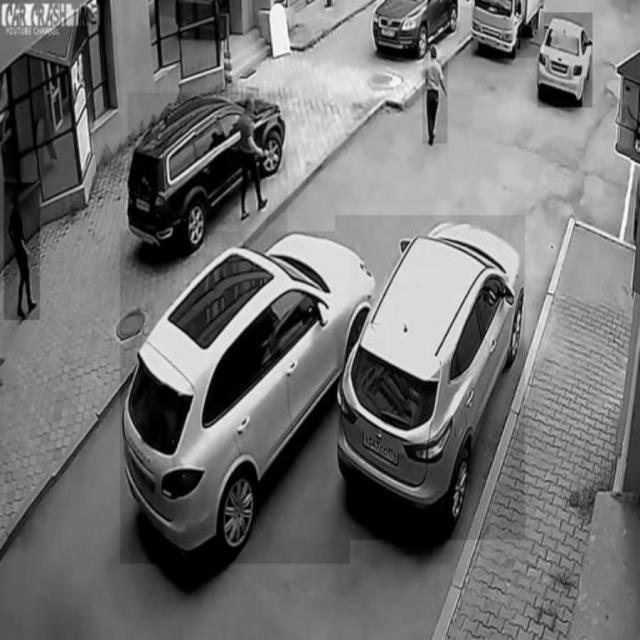person: (4, 183, 40, 320), (239, 89, 269, 223), (423, 39, 448, 143)
vehicle: (120, 232, 350, 564), (335, 215, 525, 540), (128, 93, 288, 253), (538, 13, 593, 107), (368, 1, 460, 57), (472, 0, 544, 57)
